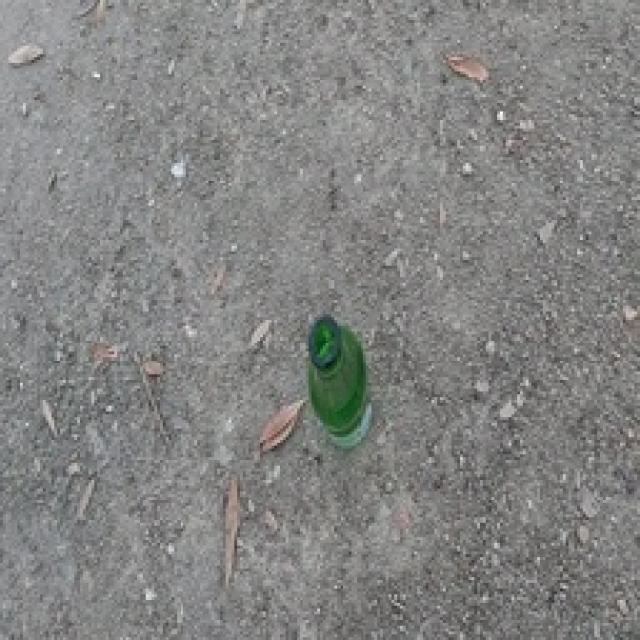Glass: (304, 312, 372, 453)
